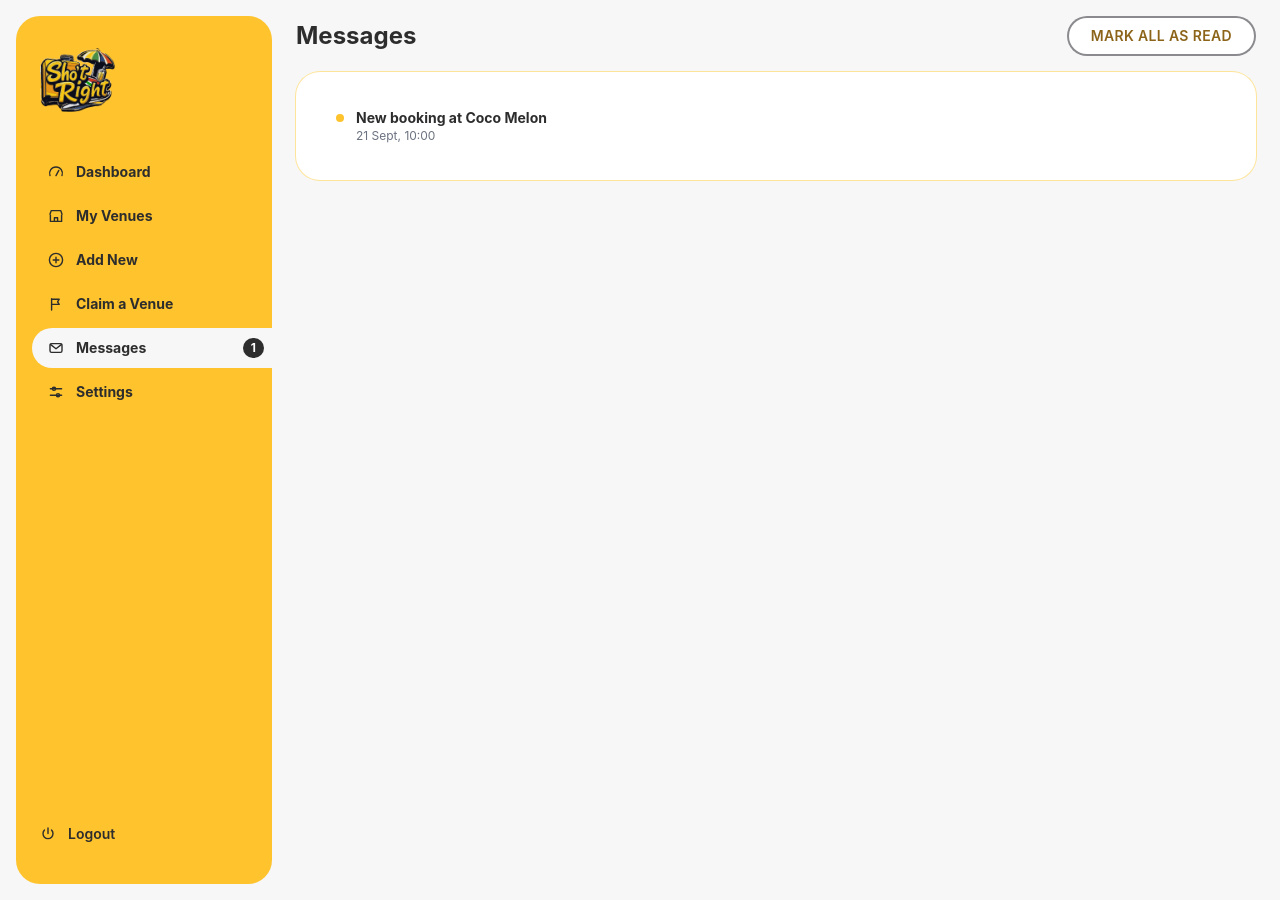
Scenario: the Messages panel › opens a message as text, not HTML, and marks it read
Click the button "New booking at Coco Melon 21 Sept, 10:00" at (451, 118), box [320, 96, 1232, 156]
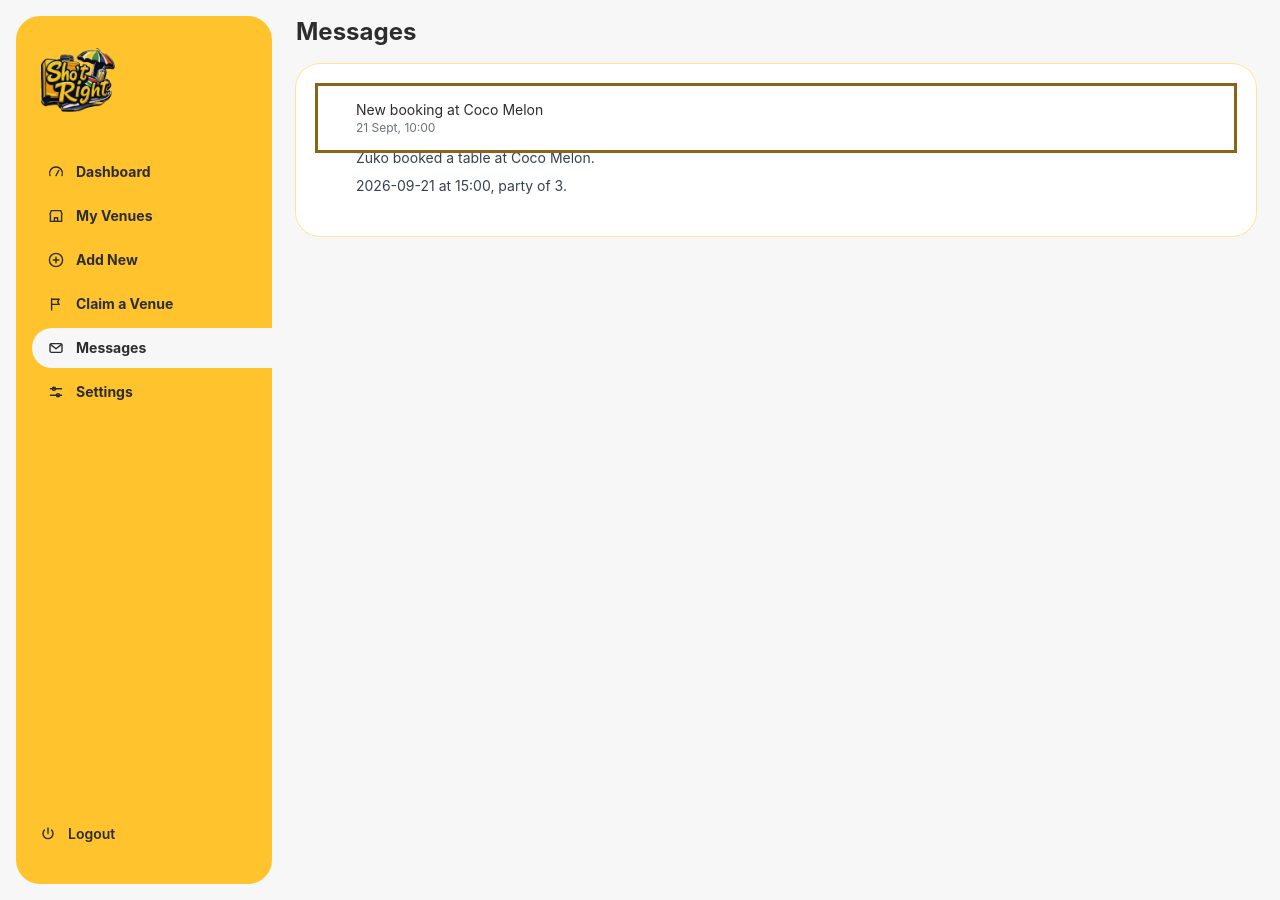
Now the text "Zuko booked a table at Coco Melon." is shown, box [356, 149, 595, 166]
Now the text "2026-09-21 at 15:00, party of 3." is shown, box [356, 177, 567, 194]
Now the link "Messages" is shown, box [32, 328, 288, 368]
